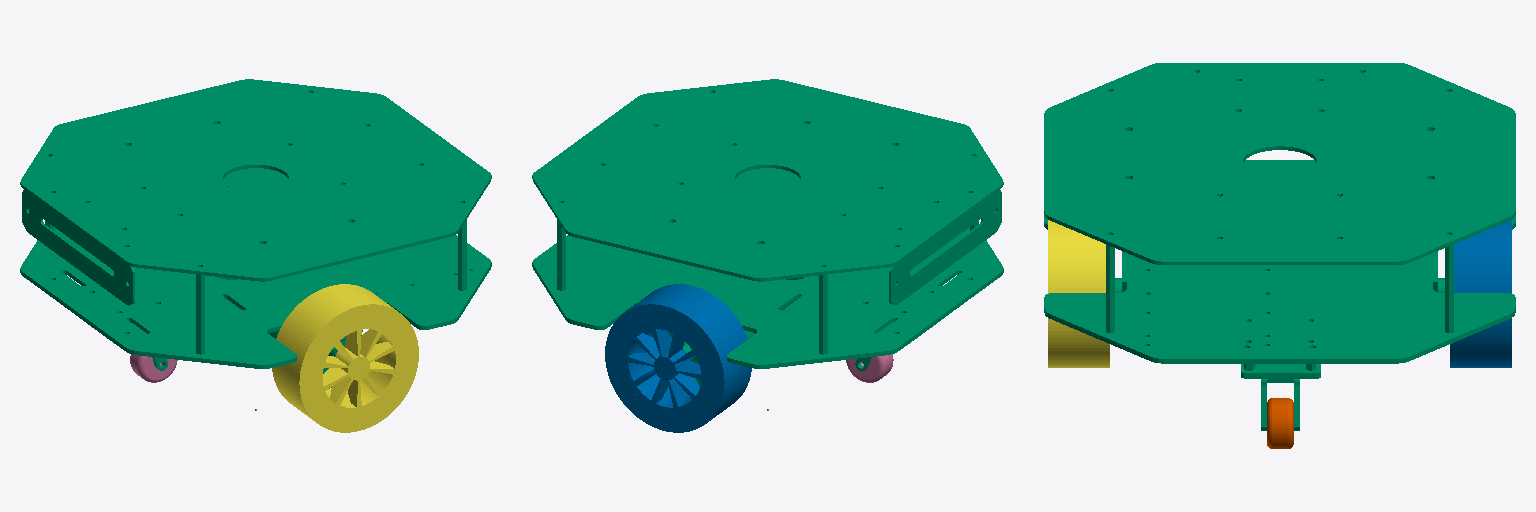
robot.urdf — tarkbot2:
<?xml version='1.0' encoding='utf-8'?>
<robot name="tarkbot2">
  <link name="base_footprint">
    <visual>
      <origin rpy="0 0 0" xyz="0 0 0"/>
      <geometry>
        <box size="0.001 0.001 0.001"/>
      </geometry>
    </visual>
  </link>
    <link name="imu_link"/>
    <link name="chassis">
        <inertial>
            <origin xyz="-0.0016874511908933395 3.080727561398922e-05 0.05947042251166073" rpy="0.0 0.0 0.0" />
            <mass value="2.5333273945875128" />
            <inertia ixx="0.010218624186433217" iyy="0.009735989475531948" izz="0.015118264710850452" ixy="-2.5094885011767804e-06" iyz="1.2109285648671322e-06" ixz="0.00018352950058293297" />
        </inertial>
        <visual name="chassis_visual">
            <origin xyz="0.0 0.0 0.0" rpy="0.0 0.0 0.0" />
            <geometry>
                <mesh filename="package://yahboomcar_description/meshes/chassis.stl" scale="0.001 0.001 0.001" />
            </geometry>
        </visual>
        <collision name="chassis_collision">
            <origin xyz="0.0 0.0 0.0" rpy="0.0 0.0 0.0" />
            <geometry>
                <mesh filename="package://yahboomcar_description/meshes/chassis.stl" scale="0.001 0.001 0.001" />
            </geometry>
        </collision>
    </link>
    <joint name="base_joint" type="fixed">
      <origin rpy="0 0 0" xyz="0 0 0.033"/>
      <parent link="base_footprint"/>
      <child link="chassis"/>
    </joint>
      <joint name="base_imu" type="fixed">
        <parent link="chassis"/>
        <child link="imu_link"/>
        <origin xyz="0.085 -0.01 0.112" rpy="0 0 1.5707"/>
    </joint>
    <link name="wheels">
        <inertial>
            <origin xyz="-3.4389468902081997e-09 2.531308496145357e-16 0.0042893362170877405" rpy="0.0 -0.0 0.0" />
            <mass value="0.6626439483992117" />
            <inertia ixx="0.00036092283728966605" iyy="0.00036092283728960707" izz="0.0006200325820258544" ixy="-7.710666650309004e-18" iyz="-1.734723475976807e-18" ixz="-4.349805351726451e-18" />
        </inertial>
        <visual name="wheels_visual">
            <origin xyz="-0.02050000343894688 0.11219999999999956 0.1022000008123653" rpy="1.570796326794902 1.1153504317111211e-15 1.804112415015857e-16" />
            <geometry>
                <mesh filename="package://yahboomcar_description/meshes/wheels.stl" scale="0.001 0.001 0.001" />
            </geometry>
        </visual>
        <collision name="wheels_collision">
            <origin xyz="-0.02050000343894688 0.11219999999999956 0.1022000008123653" rpy="1.570796326794902 1.1153504317111211e-15 1.804112415015857e-16" />
            <geometry>
                <mesh filename="package://yahboomcar_description/meshes/wheels.stl" scale="0.001 0.001 0.001" />
            </geometry>
        </collision>
    </link>
    <link name="wheels2">
        <inertial>
            <origin xyz="-3.438946673244437e-09 7.815970093361102e-16 0.004289334592358394" rpy="0.0 -0.0 0.0" />
            <mass value="0.6626439483992121" />
            <inertia ixx="0.00036092283728968166" iyy="0.00036092283728960447" izz="0.0006200325820258656" ixy="6.589678101622041e-18" iyz="4.336808689942016e-19" ixz="-2.928047314870307e-18" />
        </inertial>
        <visual name="wheels2_visual">
            <origin xyz="-0.027500003438946947 -0.1121999999999997 0.10219999918763488" rpy="-1.5707963267948963 1.5707963267948915 0" />
            <geometry>
                <mesh filename="package://yahboomcar_description/meshes/wheels2.stl" scale="0.001 0.001 0.001" />
            </geometry>
        </visual>
        <collision name="wheels2_collision">
            <origin xyz="-0.027500003438946947 -0.1121999999999997 0.10219999918763488" rpy="-1.5707963267948963 1.5707963267948915 0" />
            <geometry>
                <mesh filename="package://yahboomcar_description/meshes/wheels2.stl" scale="0.001 0.001 0.001" />
            </geometry>
        </collision>
    </link>
    <link name="smallwheel">
        <inertial>
            <origin xyz="-4.63797894312279e-09 -4.25746971011165e-10 0.006499995134924852" rpy="0.0 -0.0 0.0" />
            <mass value="0.046557369382854395" />
            <inertia ixx="2.4072444948860145e-06" iyy="2.407244495215529e-06" izz="3.593472016872397e-06" ixy="6.776263578034402e-20" iyz="2.0012228358693113e-18" ixz="5.754460660814728e-20" />
        </inertial>
        <visual name="smallwheel_visual">
            <origin xyz="-0.09340858911638675 0.047897157881605076 0.06194578600659297" rpy="1.5707963267948968 -1.570796326794893 0" />
            <geometry>
                <mesh filename="package://yahboomcar_description/meshes/smallwheel.stl" scale="0.001 0.001 0.001" />
            </geometry>
        </visual>
        <collision name="smallwheel_collision">
            <origin xyz="-0.09340858911638675 0.047897157881605076 0.06194578600659297" rpy="1.5707963267948968 -1.570796326794893 0" />
            <geometry>
                <mesh filename="package://yahboomcar_description/meshes/smallwheel.stl" scale="0.001 0.001 0.001" />
            </geometry>
        </collision>
    </link>
    <link name="smallwheel2">
        <inertial>
            <origin xyz="-4.637977770727275e-09 -4.257463093182423e-10 0.006499995134924852" rpy="0.0 -0.0 0.0" />
            <mass value="0.046557369382854506" />
            <inertia ixx="2.4072444948845458e-06" iyy="2.4072444952141466e-06" izz="3.593472016871096e-06" ixy="1.084202172485505e-19" iyz="2.3402198292916125e-18" ixz="2.714198884171521e-19" />
        </inertial>
        <visual name="smallwheel2_visual">
            <origin xyz="0.0705914108836131 -0.05489715873310987 -0.0855302619838002" rpy="1.5707963267948966 -1.5707963267948937 0" />
            <geometry>
                <mesh filename="package://yahboomcar_description/meshes/smallwheel2.stl" scale="0.001 0.001 0.001" />
            </geometry>
        </visual>
        <collision name="smallwheel2_collision">
            <origin xyz="0.0705914108836131 -0.05489715873310987 -0.0855302619838002" rpy="1.5707963267948966 -1.5707963267948937 0" />
            <geometry>
                <mesh filename="package://yahboomcar_description/meshes/smallwheel2.stl" scale="0.001 0.001 0.001" />
            </geometry>
        </collision>
    </link>
    <joint name="chassis_rotate1" type="continuous">
        <origin xyz="3.4389469396667922e-09 -0.10220000081236451 0.03700000000000028" rpy="-1.570796326794902 -1.8041124150157911e-16 1.1657341758564134e-15" />
        <parent link="chassis" />
        <child link="wheels" />
        <axis xyz="-1.905261713011645e-32 -7.888609052210118e-31 1.0" />
    </joint>
    <joint name="chassis_rotate2" type="continuous">
        <origin xyz="3.438946698554053e-09 0.10219999918763517 0.036999999999999145" rpy="1.570796326794891 -1.8041124150157911e-16 1.1657341758564134e-15" />
        <parent link="chassis" />
        <child link="wheels2" />
        <axis xyz="1.905261713011645e-32 -7.888609052210118e-31 1.0" />
    </joint>
    <joint name="chassis_rotate3" type="continuous">
        <origin xyz="0.10010041343894685 -0.006308170812364686 0.01249999999999981" rpy="-1.5707963267949023 -1.8041124150157911e-16 1.1657341758564134e-15" />
        <parent link="chassis" />
        <child link="smallwheel" />
        <axis xyz="-1.905261713011645e-32 -1.1020654385558886e-16 1.0" />
    </joint>
    <joint name="chassis_rotate4" type="continuous">
        <origin xyz="-0.06389958656105318 -0.006308170812364878 0.01249999999999978" rpy="-1.570796326794902 -1.8041124150157911e-16 1.1657341758564134e-15" />
        <parent link="chassis" />
        <child link="smallwheel2" />
        <axis xyz="-1.905261713011645e-32 1.3400768461157315e-16 1.0" />
    </joint>
</robot>

--- Render facts (derived) ---
3 views of the same robot in one strip: view 1: azimuth 30°, elevation 25°; view 2: azimuth 150°, elevation 25°; view 3: azimuth 270°, elevation 25° (orthographic).
Robot: tarkbot2 — 7 links, 6 joints (4 continuous, 2 fixed); root link base_footprint; default pose: all joints at 0.
Visible links, largest first — view 1: chassis, wheels, smallwheel2; view 2: chassis, wheels2, smallwheel2; view 3: chassis, wheels, wheels2, smallwheel.
Boxes of the visible links, x1,y1,x2,y2 form: chassis: (20, 79, 491, 388); wheels: (272, 284, 418, 432); smallwheel2: (130, 354, 177, 382); chassis: (532, 79, 1003, 385); wheels2: (605, 284, 751, 432); smallwheel2: (846, 354, 893, 382); chassis: (1044, 63, 1515, 430); wheels: (1048, 220, 1109, 367); wheels2: (1450, 220, 1511, 367); smallwheel: (1267, 398, 1293, 448).
Size in the robot's own frame: 0.228 by 0.228 by 0.139 metres.
5 mesh visuals loaded from 5 distinct referenced files (5 binary STL).